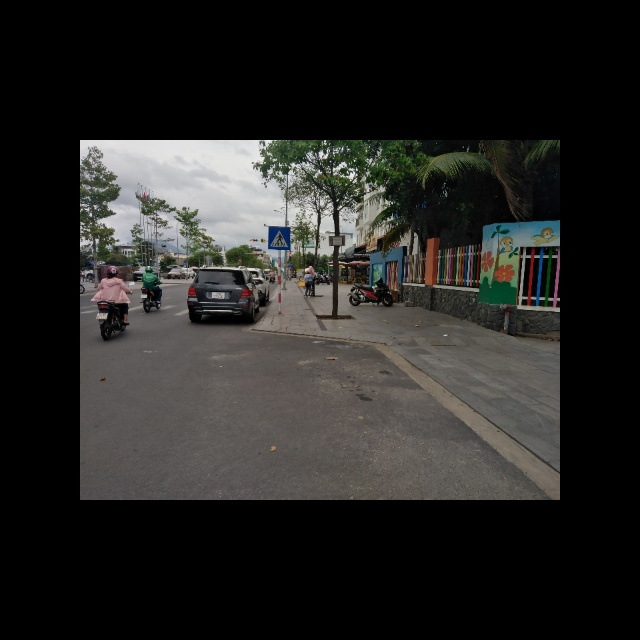Đường dành cho người đi bộ: (268, 225, 289, 249)
